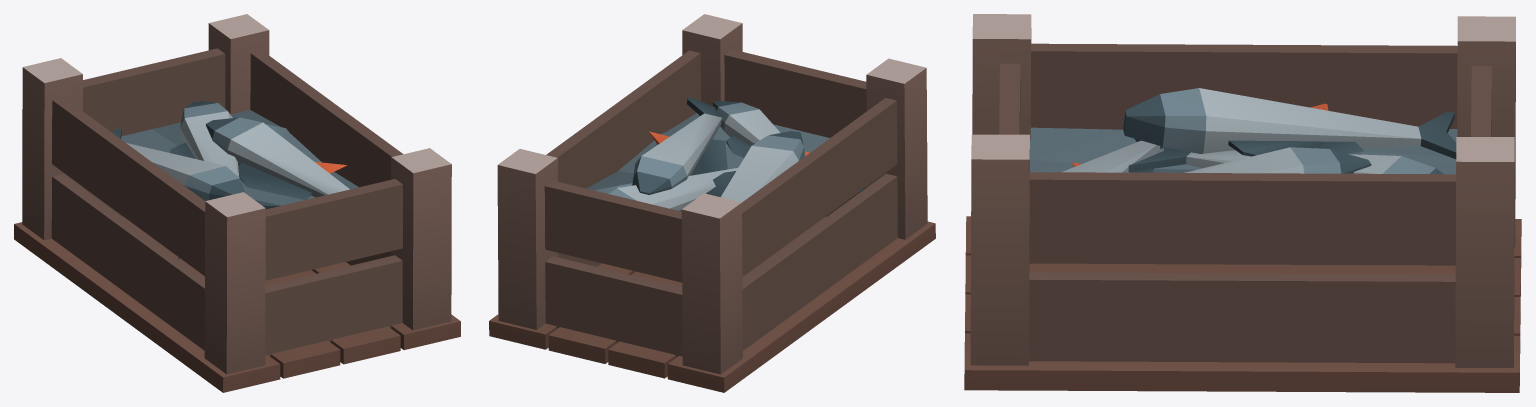
The model's file is case_002.glb.
3 views of the same model, side by side, from view 1: azimuth 30°, elevation 25°; view 2: azimuth 150°, elevation 25°; view 3: azimuth 270°, elevation 25° (orthographic). The views are drawn at different scales.
Visible parts, largest first — view 1: case_002; view 2: case_002; view 3: case_002.
Part boxes in pixels (<box>): case_002: <box>14,14,460,392</box>; case_002: <box>489,14,935,392</box>; case_002: <box>964,14,1521,392</box>.
Size of the model in its own units: 0.6585 by 0.4597 by 1.01.
1 material, 1 textured.
